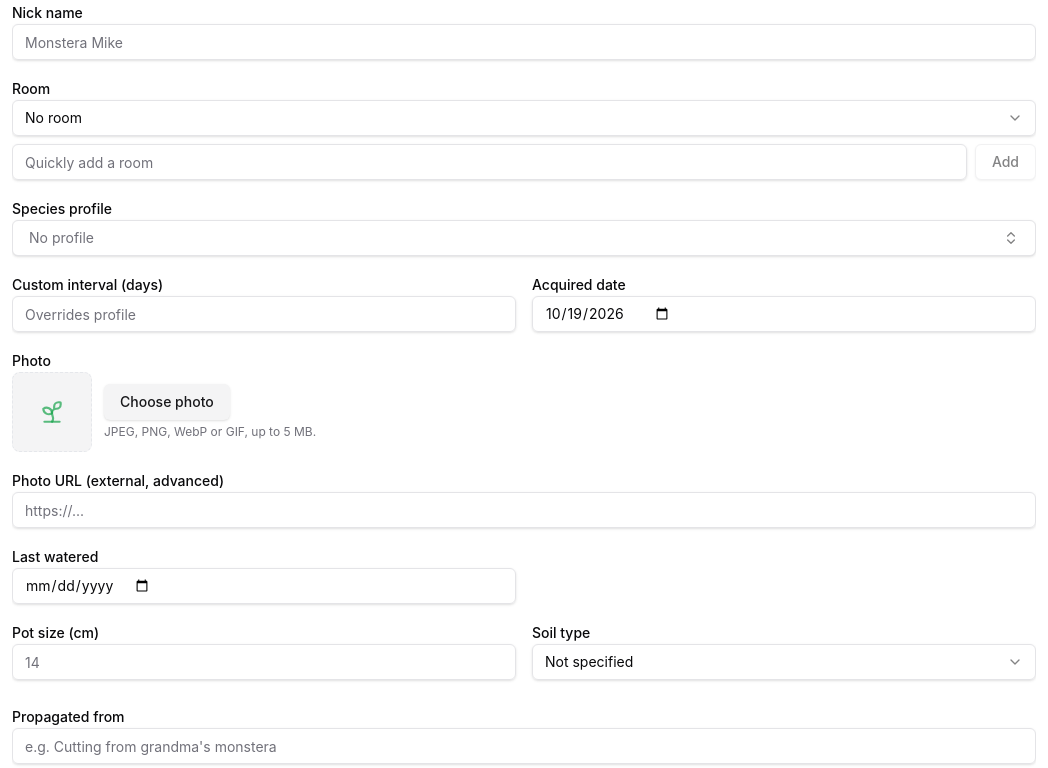
Scenario: PlantForm › shows every catalogued soil mix name as a picker option
Click the dropdown named "Soil type" at [589, 662], box [532,644,1036,680]
(page scrolled)
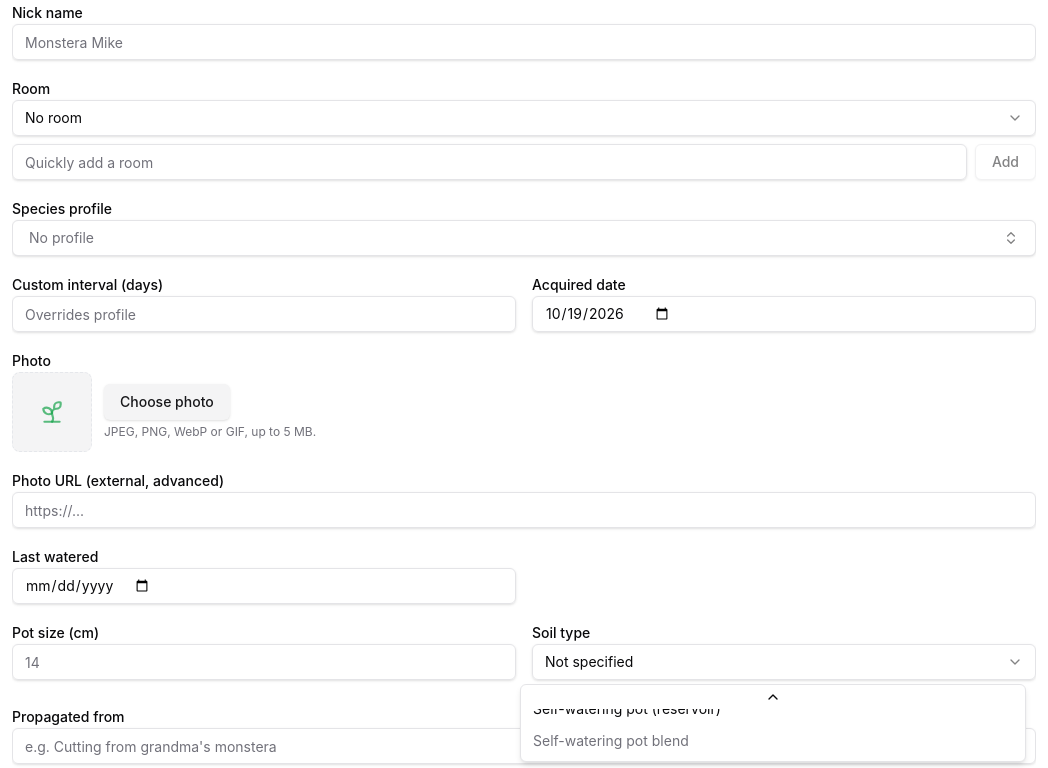
Expected: the option "Self-watering pot blend" is shown, [533,732,689,749]
